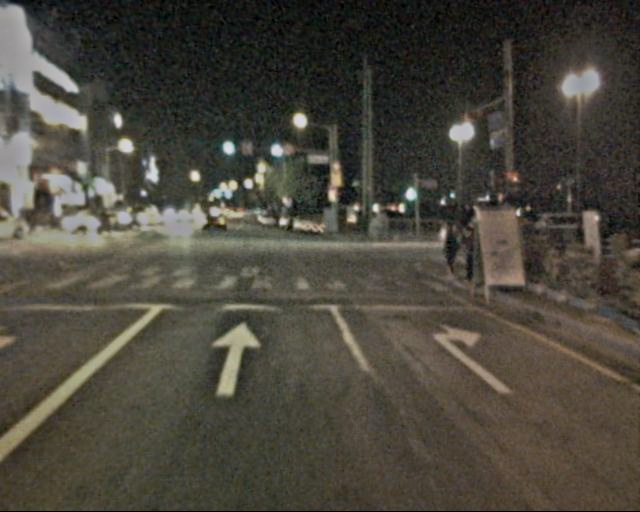person: (434, 211, 461, 278), (458, 216, 481, 287)
